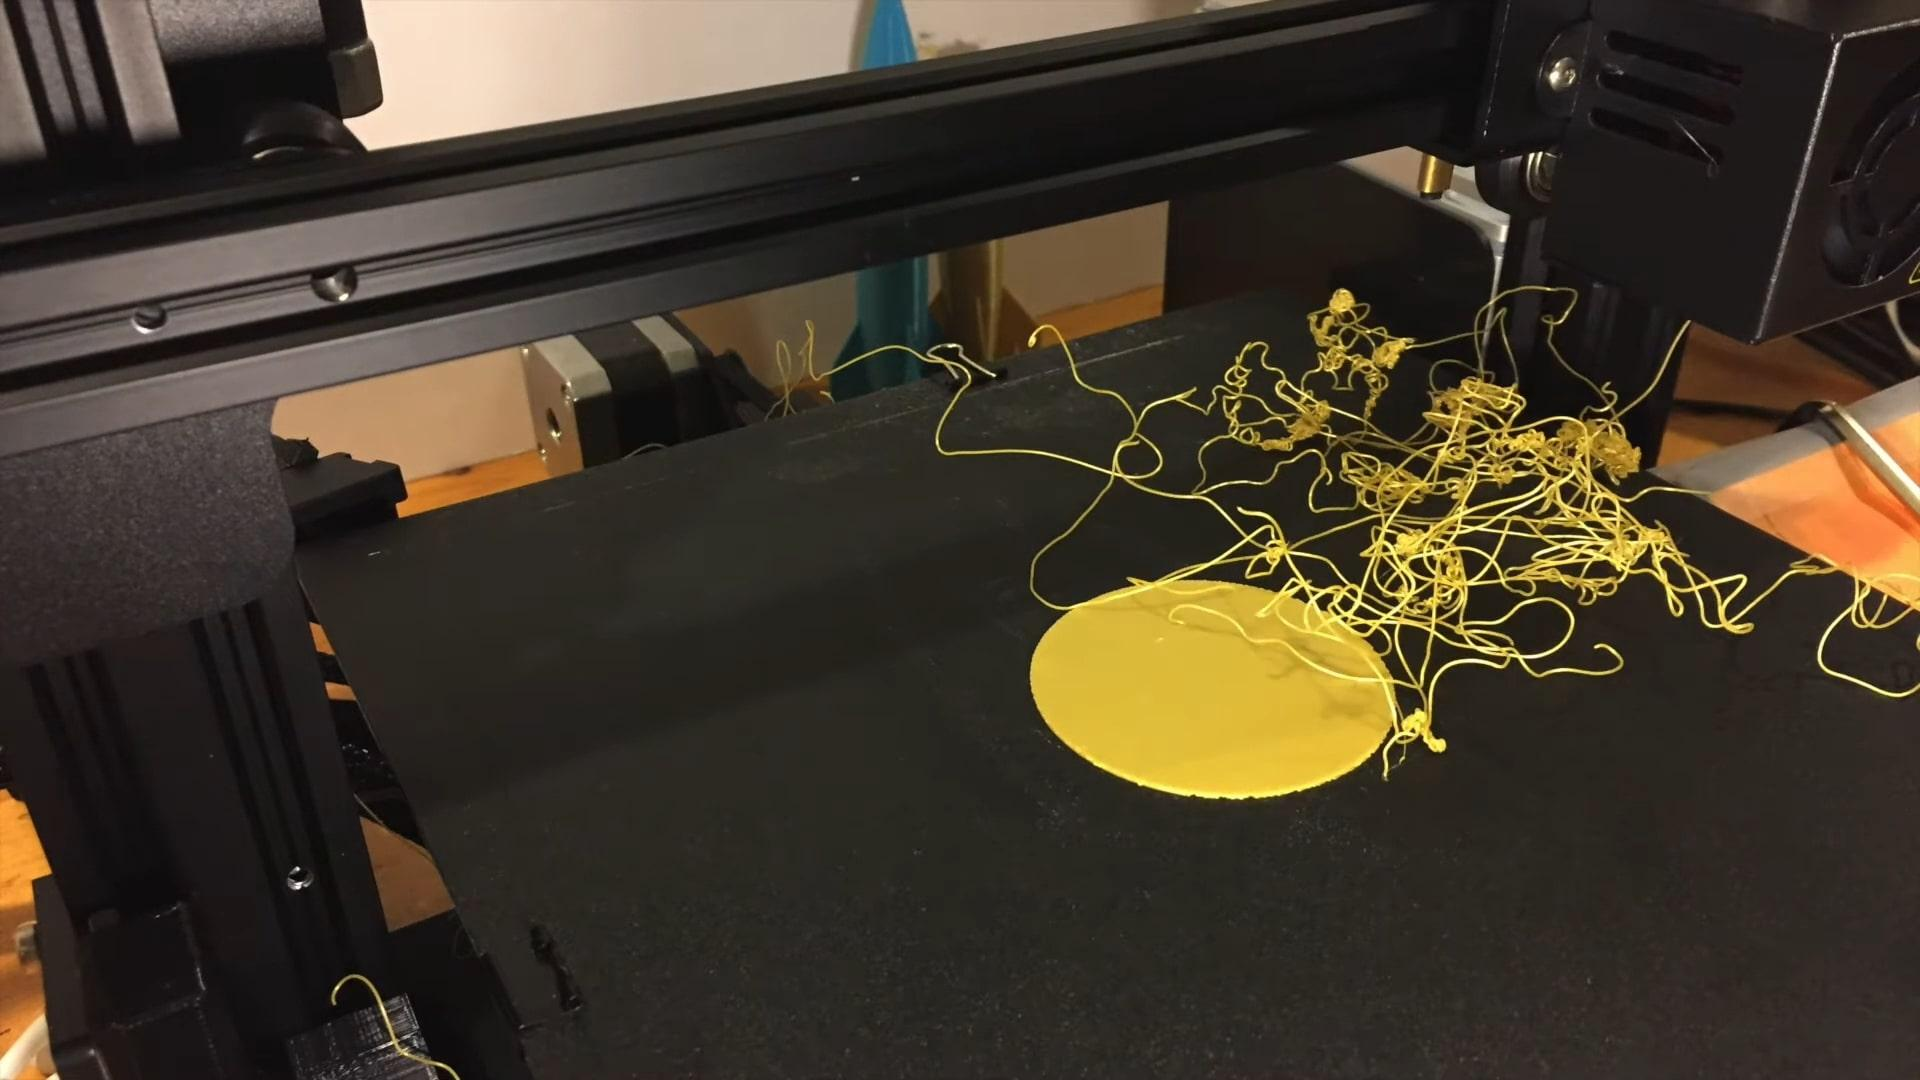Printing-Artifact: (1095, 261, 1758, 721)
